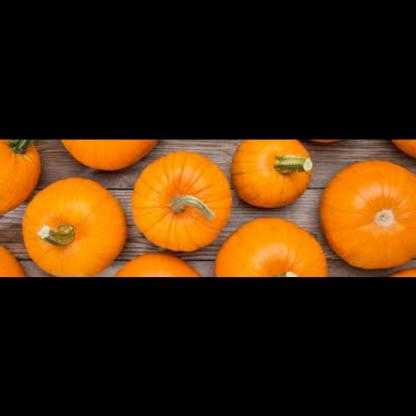pumpkin: (128, 145, 233, 252), (23, 174, 129, 276), (324, 155, 416, 271), (211, 214, 328, 276), (231, 139, 318, 202), (54, 139, 165, 176), (1, 139, 47, 226), (117, 246, 205, 277), (0, 240, 27, 276)
